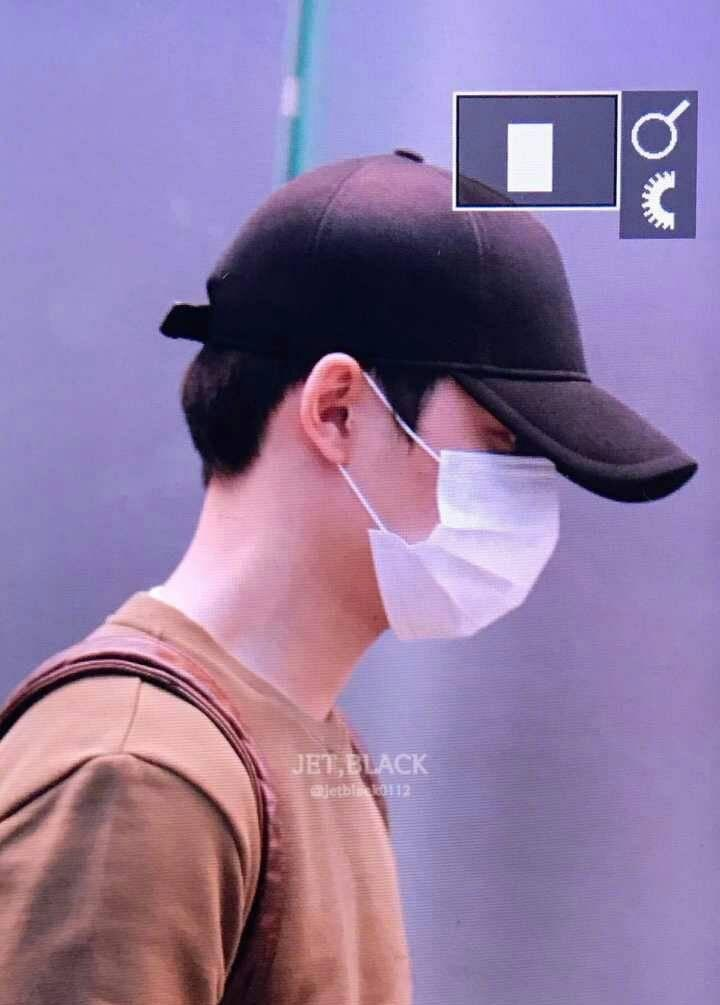OK: (303, 354, 595, 646)
